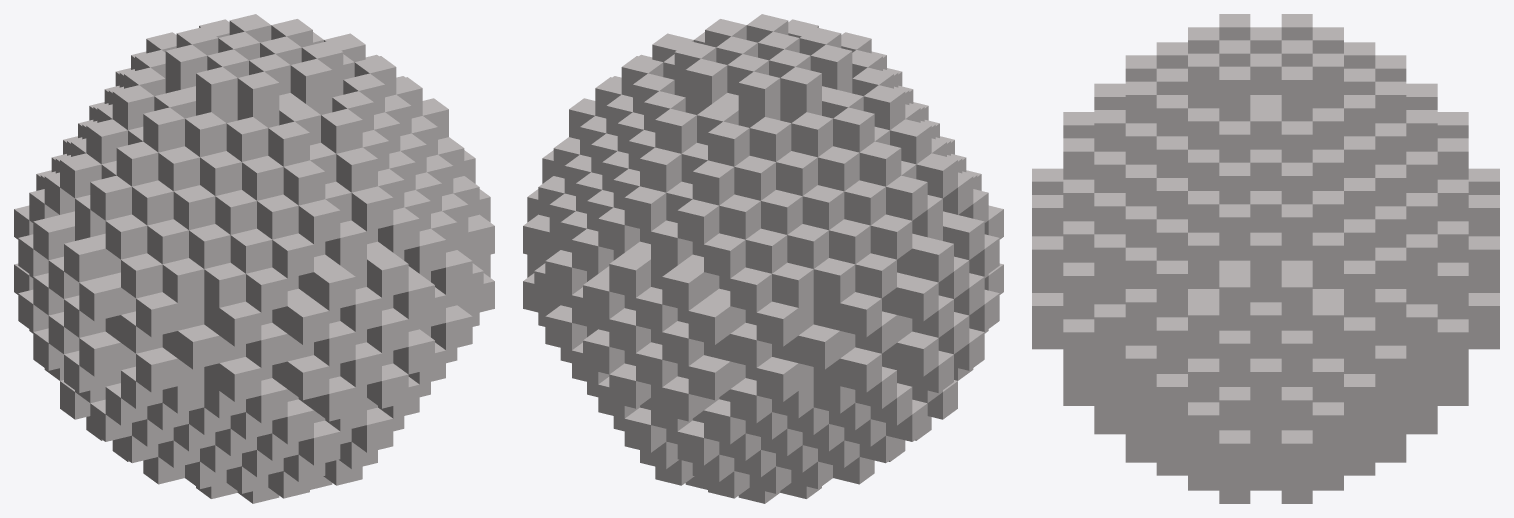
File: Golf ball.fbx
The picture shows the model from 3 angles, left to right: view 1: azimuth 30°, elevation 25°; view 2: azimuth 150°, elevation 25°; view 3: azimuth 270°, elevation 25°; orthographic projection. The views are drawn at different scales.
Parts seen in each view (by area): view 1: Untitled; view 2: Untitled; view 3: Untitled.
Boxes of the visible parts, x1,y1,x2,y2 form: Untitled: (14,14,494,503); Untitled: (523,14,1003,503); Untitled: (1032,14,1499,503).
Bounding box in the file's own units: 150 × 150 × 150.
